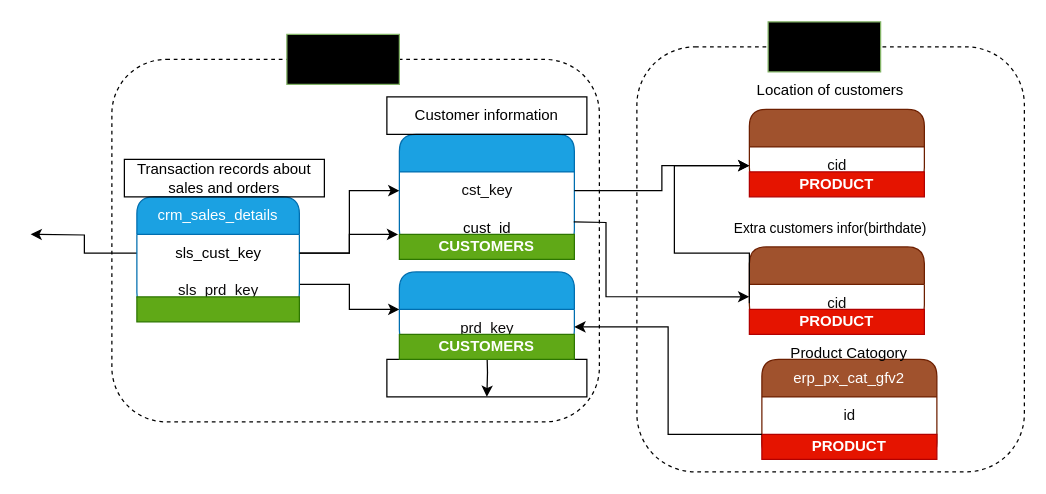
Some shapes in this 1046 by 494 pixel diagram are drawn without their labels. Each missing label, with the box of its shape:
crm_cust_info: (398, 133, 574, 247)
crm_prd_info: (398, 271, 574, 347)
Customer and product history: (386, 358, 587, 397)
erp_cust_az12: (748, 246, 924, 322)
erp_loc_a101: (748, 108, 924, 184)
SALES: (136, 296, 299, 322)
